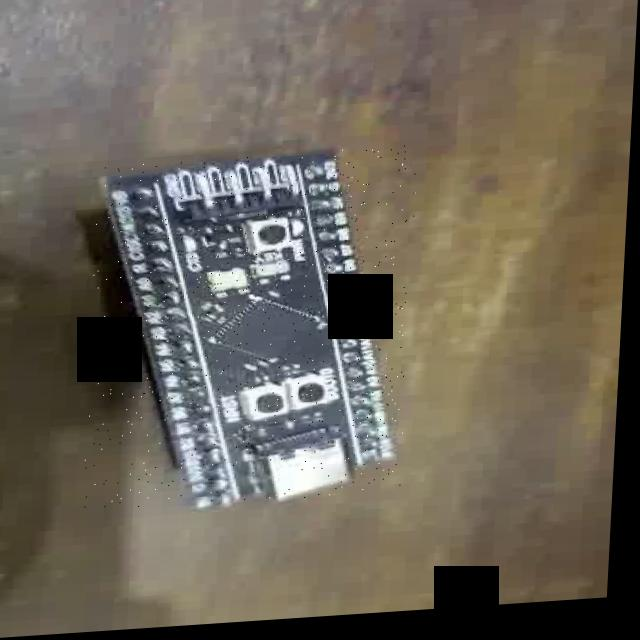stm32: (87, 151, 420, 515)
